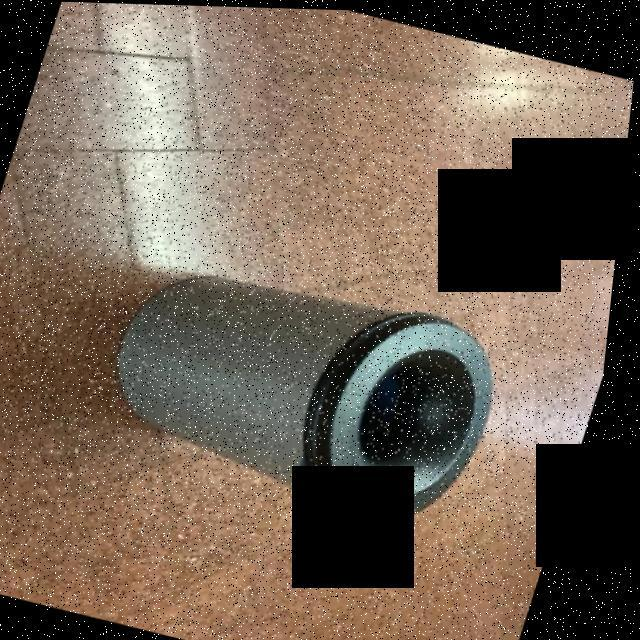bin: (82, 229, 568, 570)
